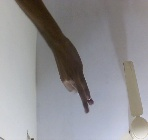hand: (44, 36, 95, 115)
